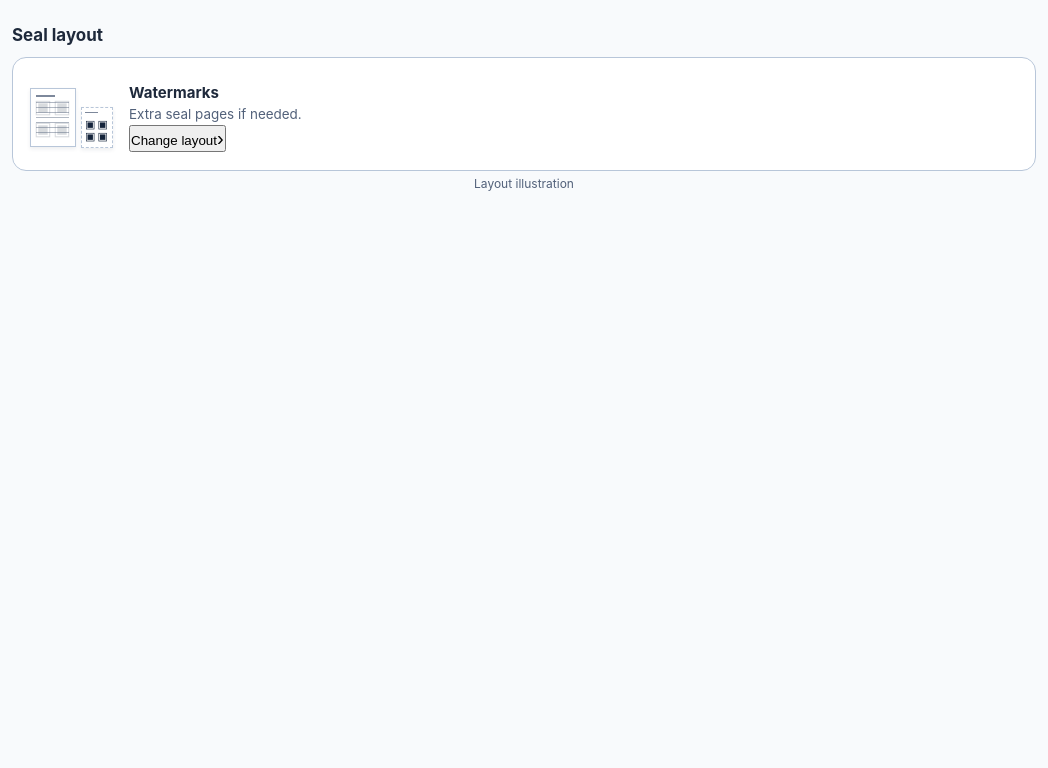
Test: applies Separate seal pages and restores that selection when reopened
The width and height of the screenshot is (1048, 768).
Click the button "Change layout›". click: point(177, 138)
box: x1=129 y1=125 x2=226 y2=152
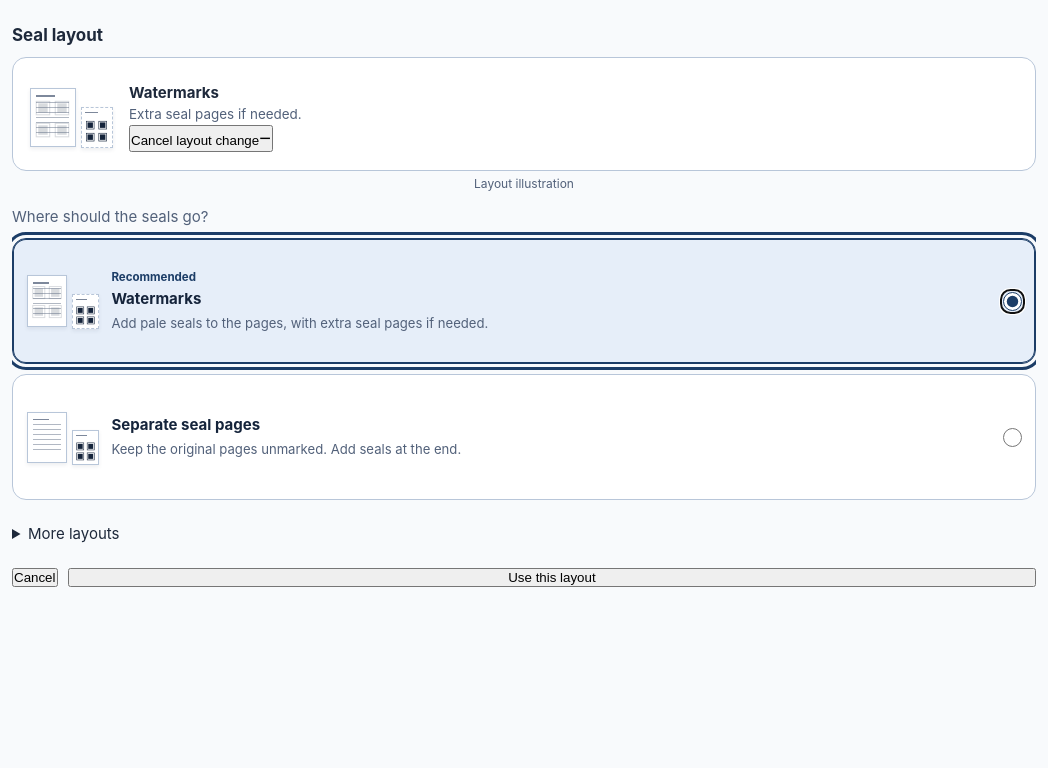
Click the radio button labelled "Separate seal pages". click: point(1012, 438)
box: x1=1003 y1=428 x2=1022 y2=447
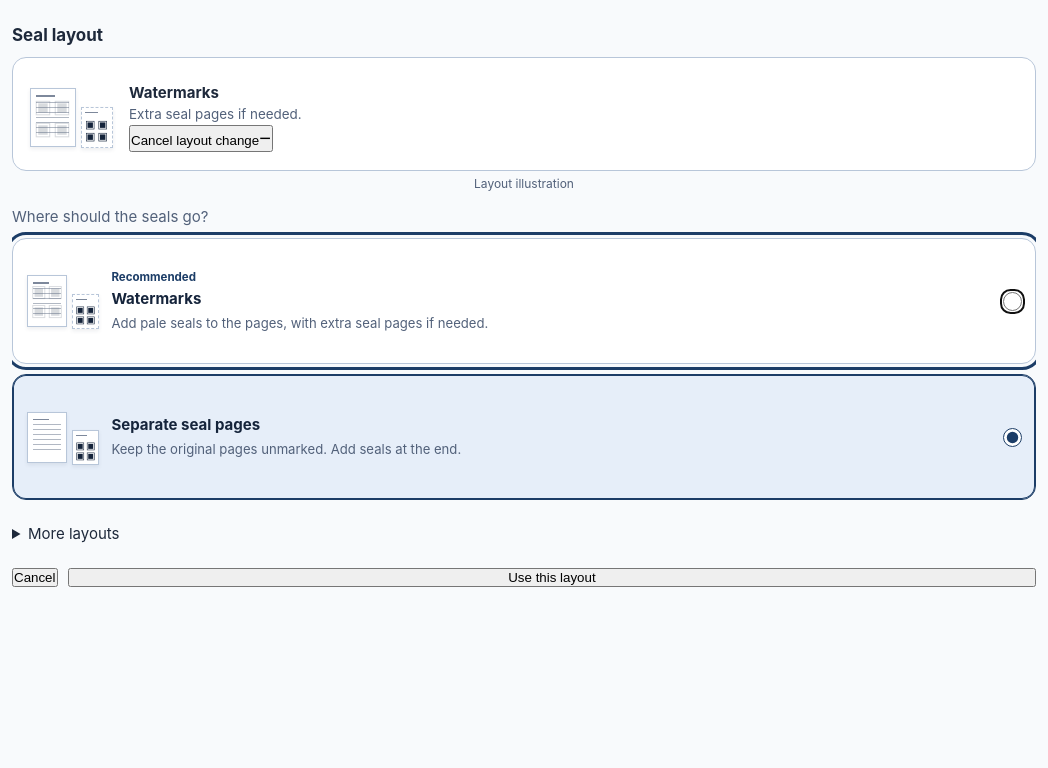
Click the button "Use this layout". click: point(552, 578)
box: x1=68 y1=568 x2=1036 y2=587
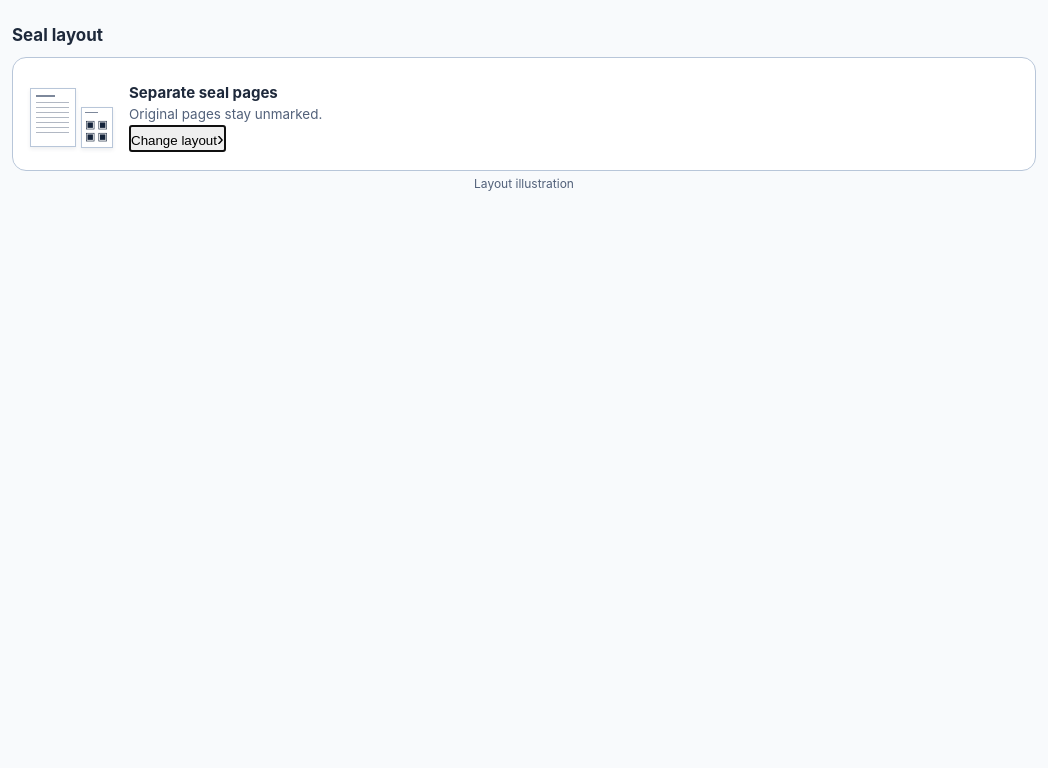
Expected: the text "Original pages stay unmarked." is shown, x1=129 y1=106 x2=322 y2=122
Expected: the radio button is gone
Click the button "Change layout›". click: point(177, 138)
box: x1=129 y1=125 x2=226 y2=152
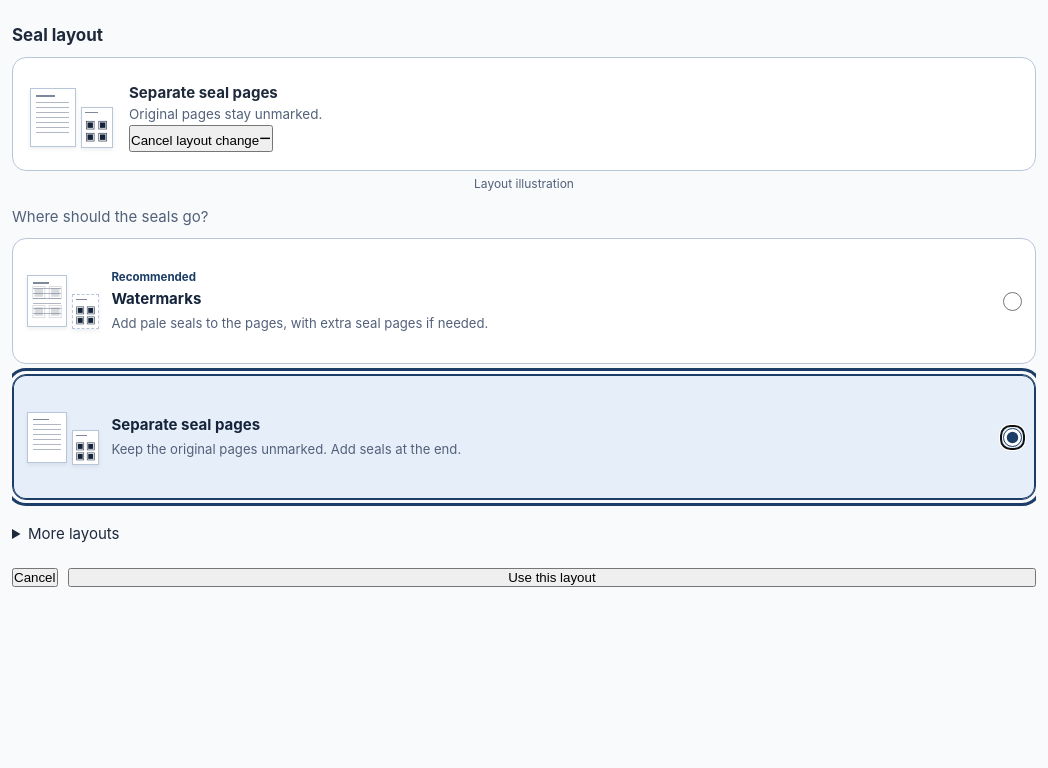
Expected: the radio button labelled "Separate seal pages" is checked, x1=1003 y1=428 x2=1022 y2=447
